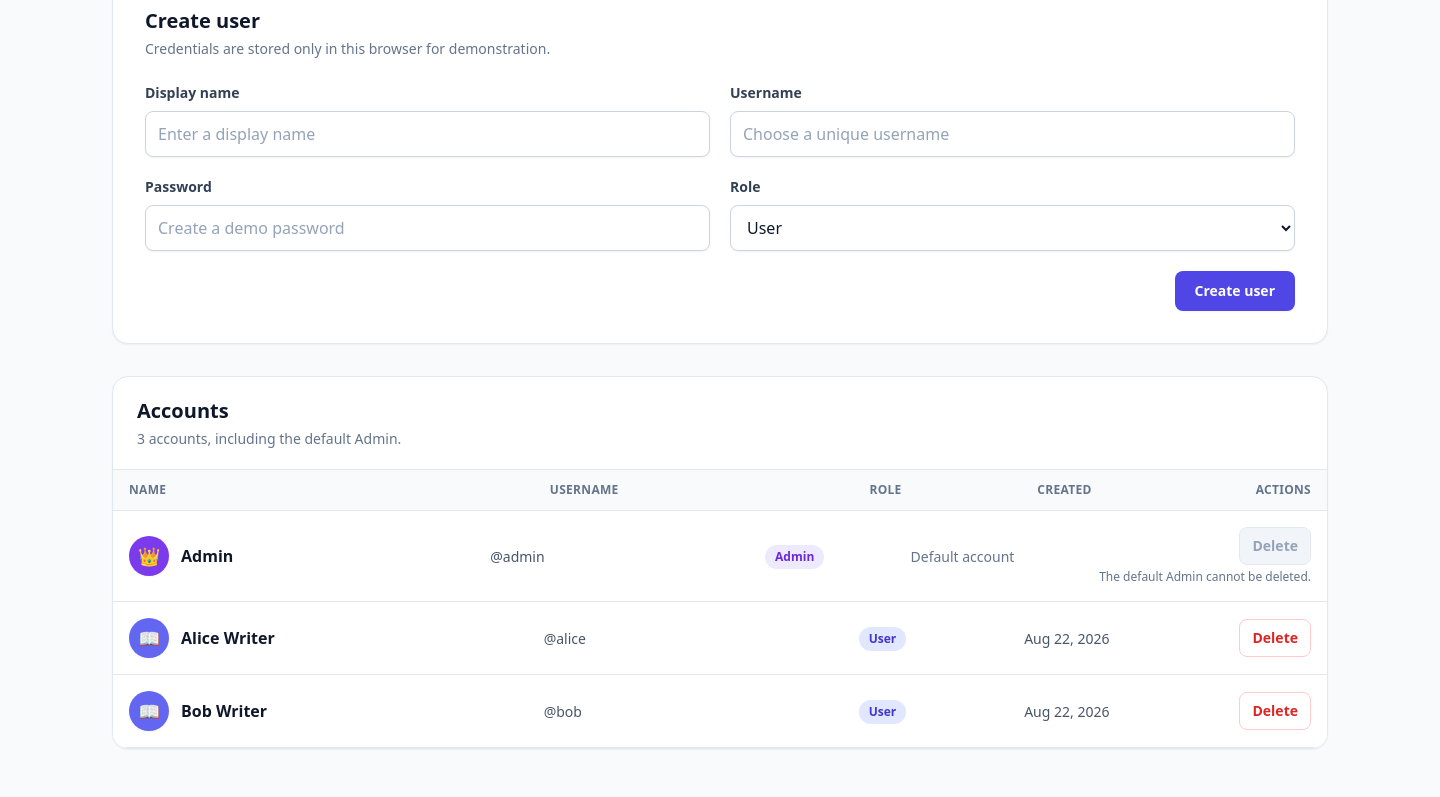
Test: UserManagement account listing and deletion › deletes exactly the selected account after confirmation
This screenshot has width=1440, height=797.
(page scrolled)
Click the button with aria-label "Delete Alice Writer".
click(1275, 638)  # box [1240,619,1311,657]
(page scrolled)
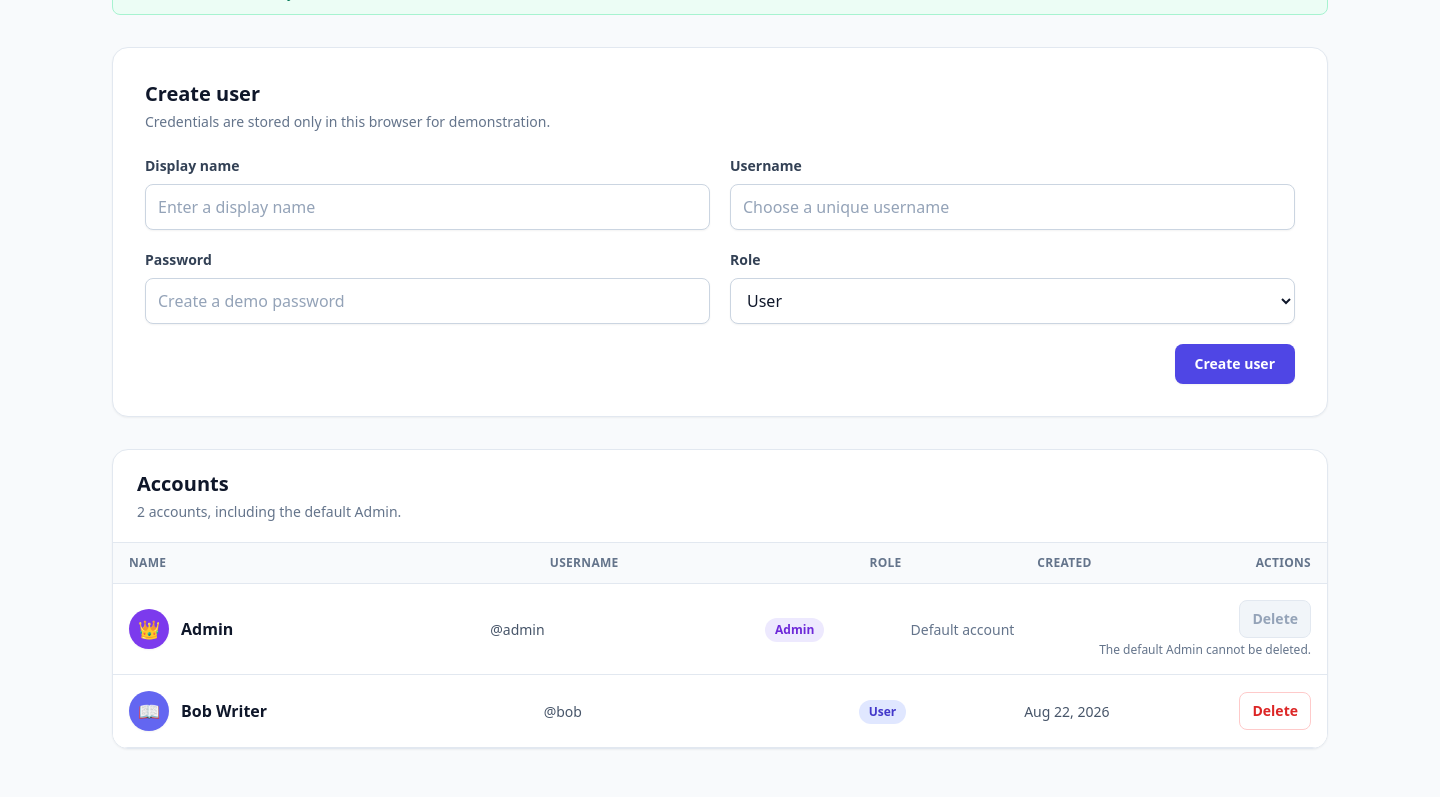
Expected: the text "Bob Writer" is shown, [181,699,267,723]
Expected: the text "Alice Writer" is gone
